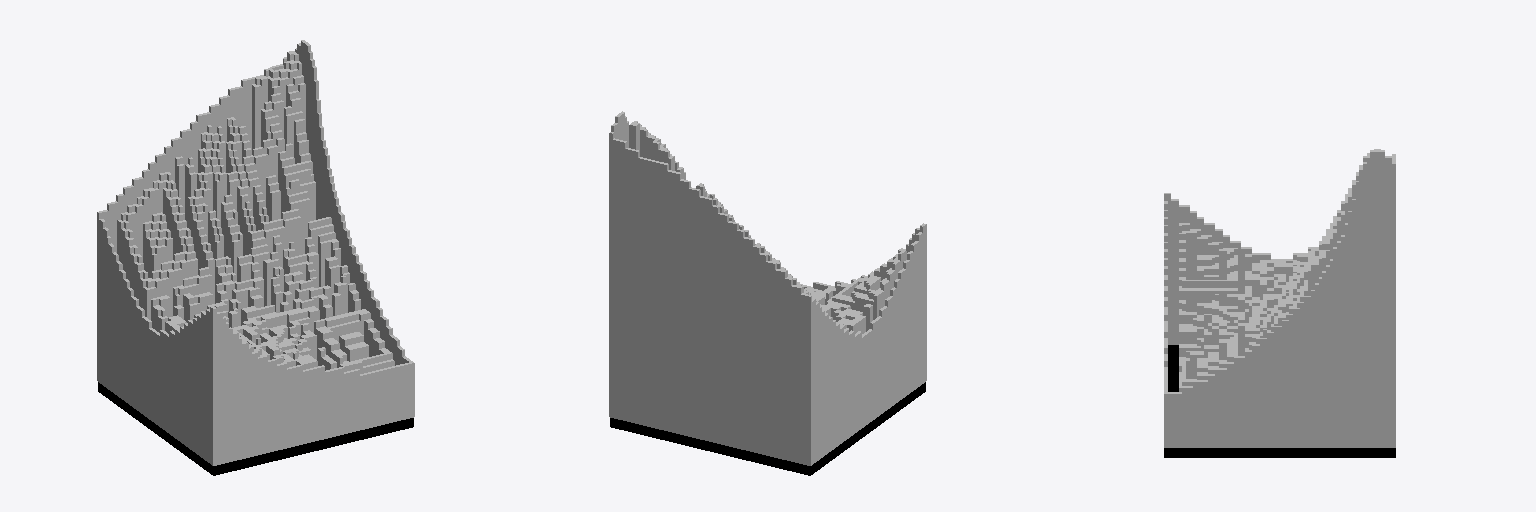
File: qrnew.obj
3 renders of one model, left to right at view 1: azimuth 30°, elevation 25°; view 2: azimuth 150°, elevation 25°; view 3: azimuth 270°, elevation 25°, orthographic.
Parts seen in each view (by area): view 1: combined-[number redacted]_combined-[number redacted].001, Cube_Cube; view 2: combined-[number redacted]_combined-[number redacted].001, Cube_Cube; view 3: combined-[number redacted]_combined-[number redacted].001, Cube_Cube.
Part boxes in pixels (bbox=[...]): combined-[number redacted]_combined-[number redacted].001: bbox=[97, 40, 414, 465]; Cube_Cube: bbox=[98, 382, 413, 475]; combined-[number redacted]_combined-[number redacted].001: bbox=[609, 111, 926, 465]; Cube_Cube: bbox=[610, 382, 925, 475]; combined-[number redacted]_combined-[number redacted].001: bbox=[1164, 149, 1395, 447]; Cube_Cube: bbox=[1164, 345, 1395, 457].
Bounding box in the file's own units: 49.72 × 72.32 × 49.72.